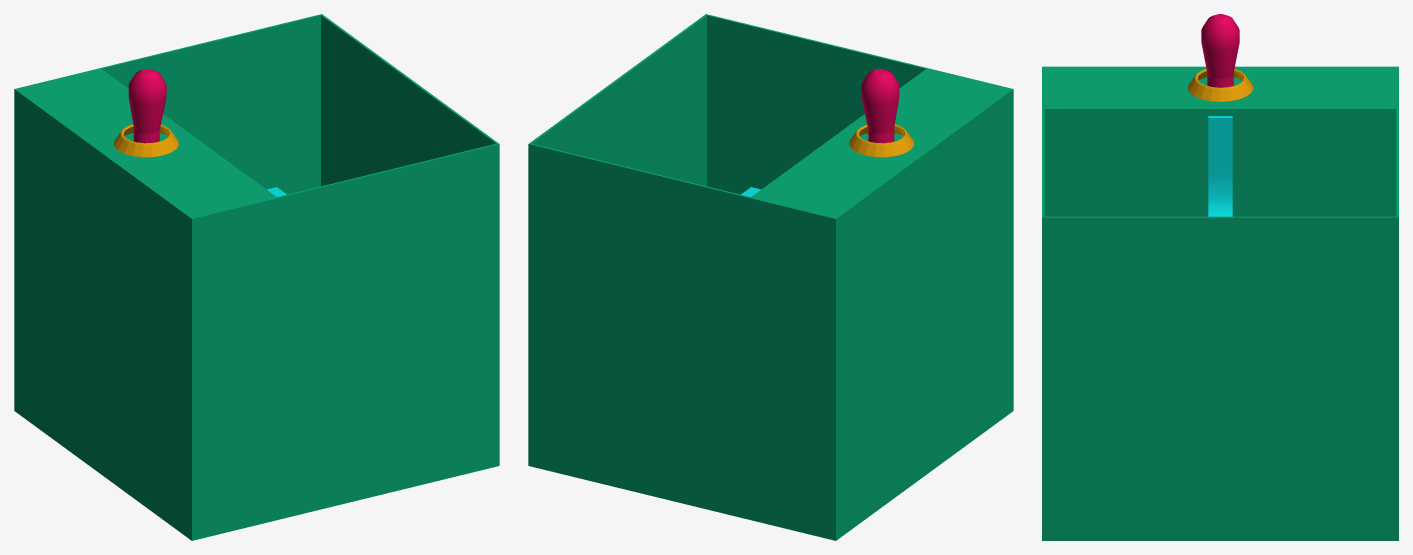
The model's file is UselessBox_v6.fbx.
3 views of the same model, side by side, from view 1: azimuth 30°, elevation 25°; view 2: azimuth 150°, elevation 25°; view 3: azimuth 270°, elevation 25° (orthographic).
Visible parts, largest first — view 1: pCube7, pCylinder1; view 2: pCube7, pCylinder1; view 3: pCube7, pCube6, pCylinder1.
Boxes of the visible parts, x1,y1,x2,y2 form: pCube7: (14,14,499,540); pCylinder1: (128,69,166,143); pCube7: (528,14,1013,540); pCylinder1: (861,69,899,143); pCube7: (1042,66,1398,540); pCube6: (1208,116,1232,216); pCylinder1: (1201,14,1239,87).
Bounding box in the file's own units: 14.64 × 17.91 × 14.64.
